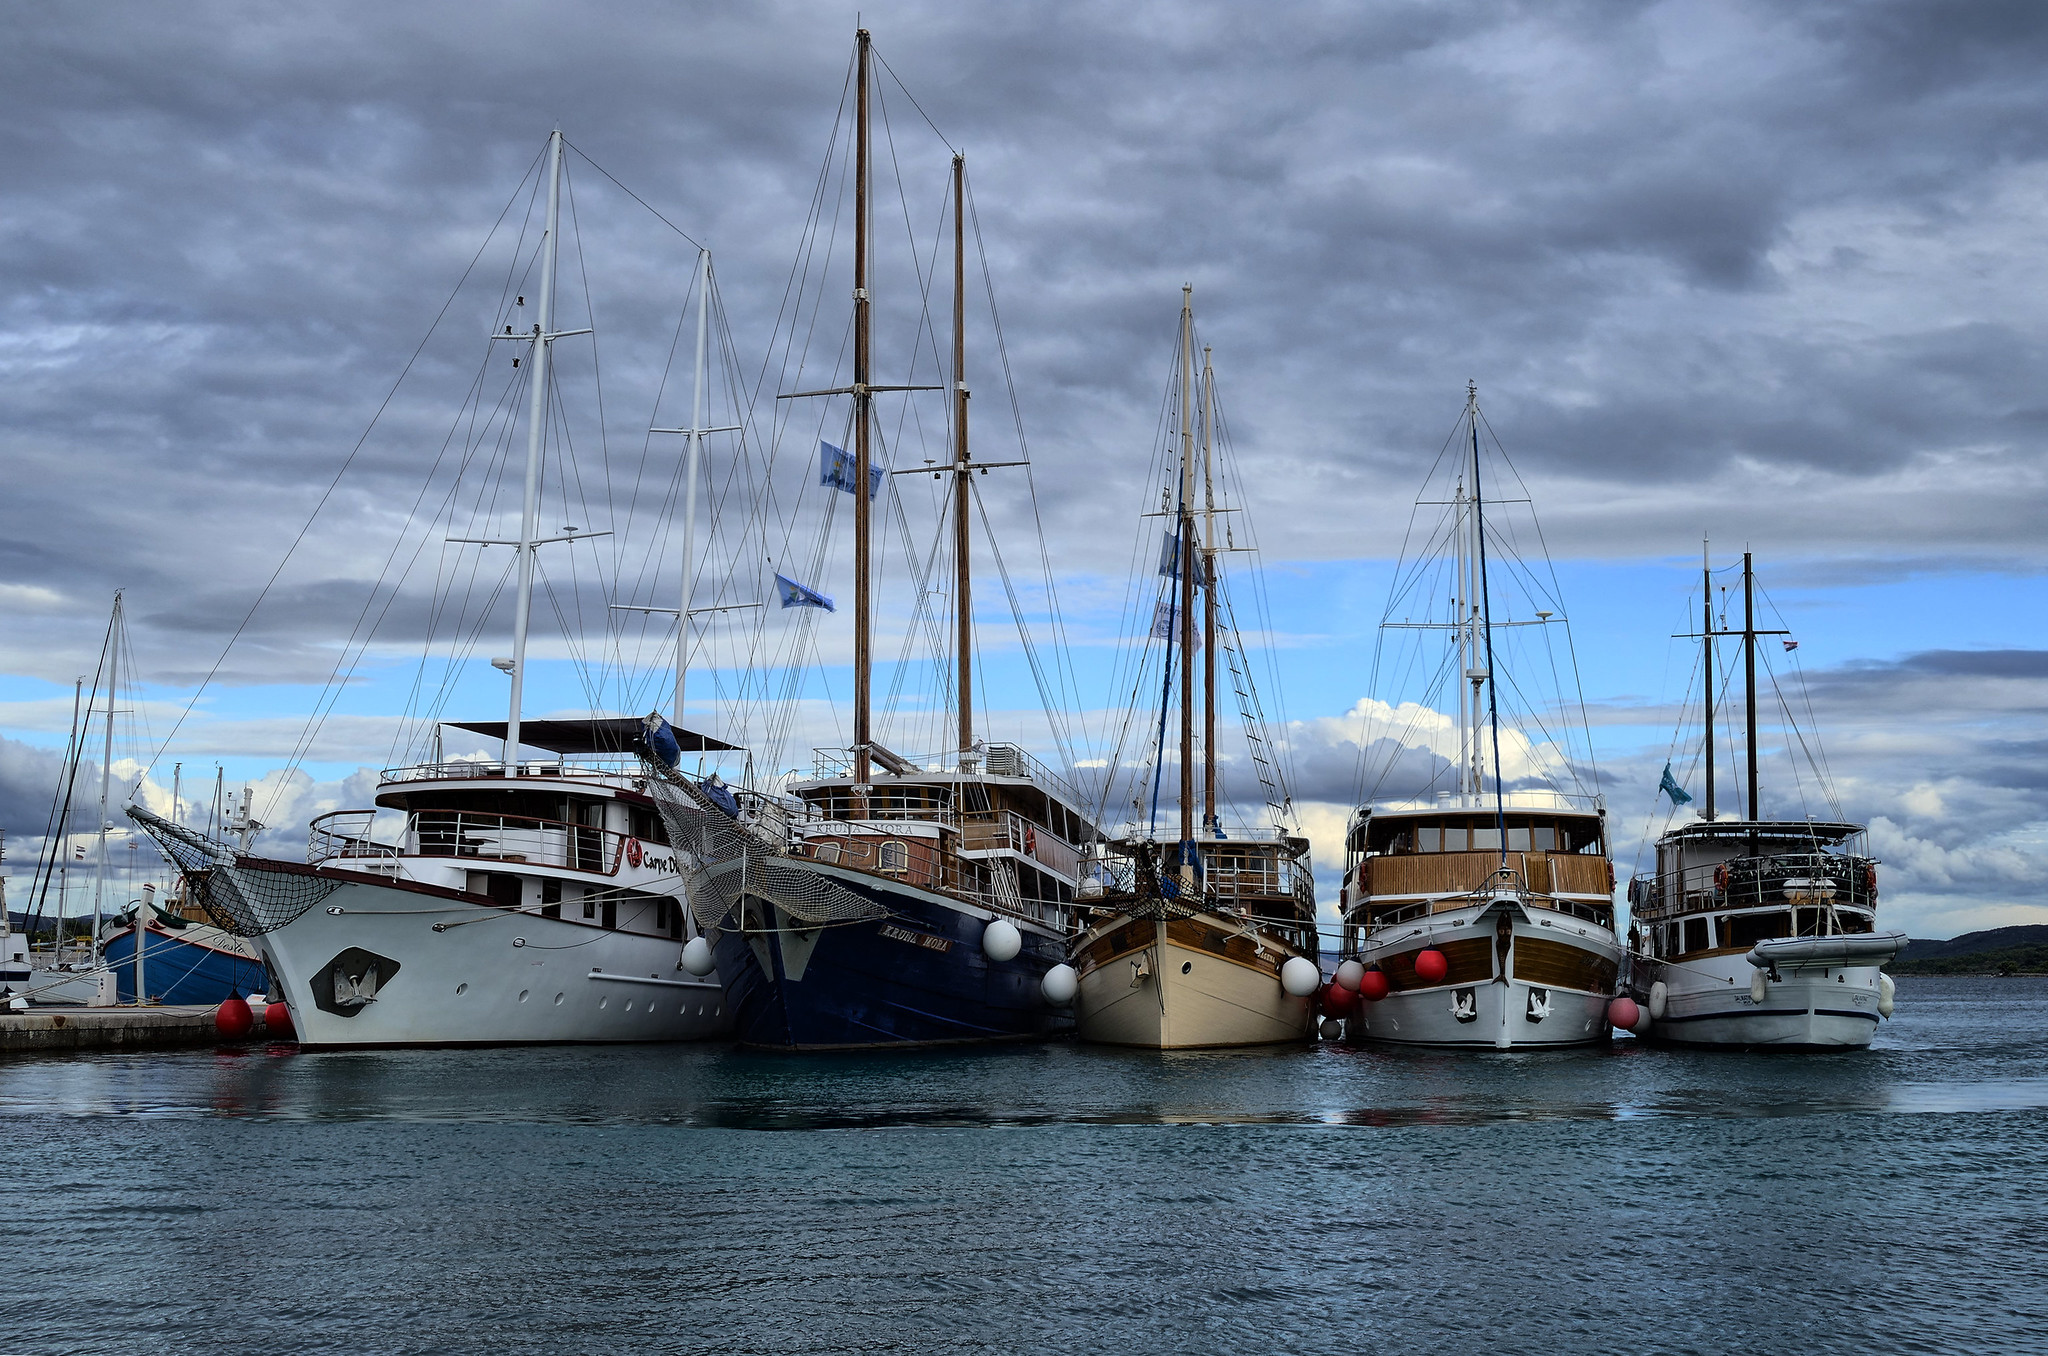boat: (163, 123, 761, 1043), (681, 35, 1088, 1076), (1074, 289, 1333, 1053), (1345, 387, 1632, 1067), (1612, 558, 1904, 1047)
